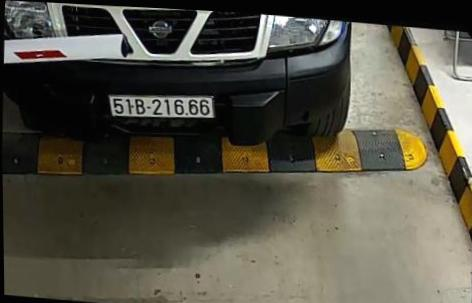License_Plate: (106, 77, 216, 129)
